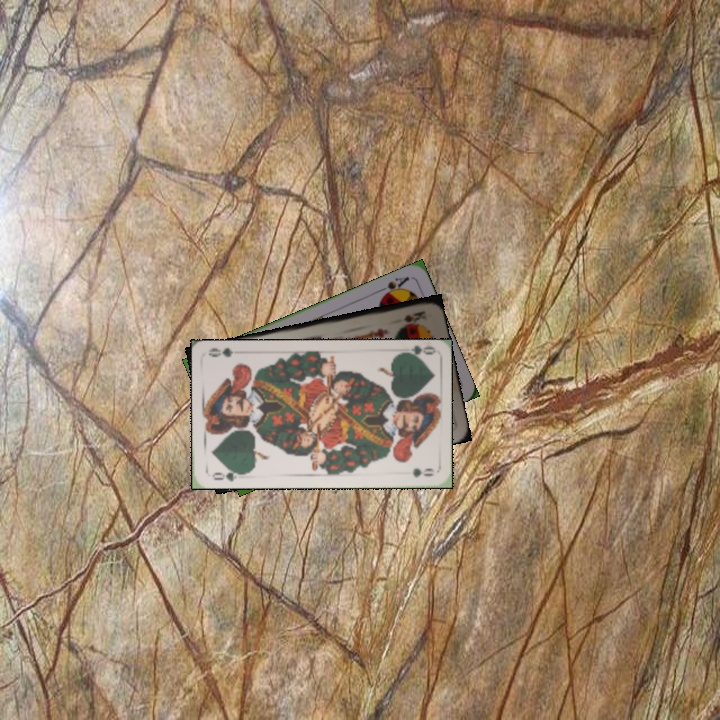GO: (395, 343, 435, 362), (209, 464, 247, 484)
SA: (374, 272, 412, 301)
SK: (400, 307, 428, 325)
